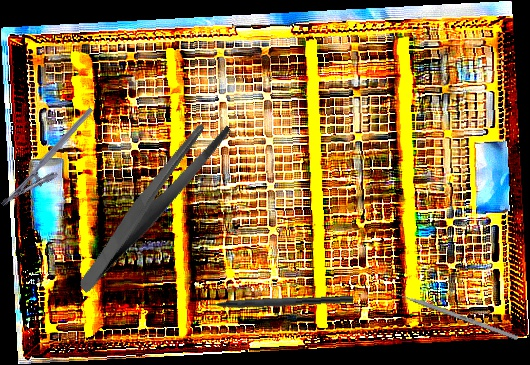Chopper: (193, 284, 354, 312)
Dressing Forceps: (43, 111, 261, 295)
Needle Holder: (0, 106, 107, 220)
Pusher: (381, 286, 519, 341)
